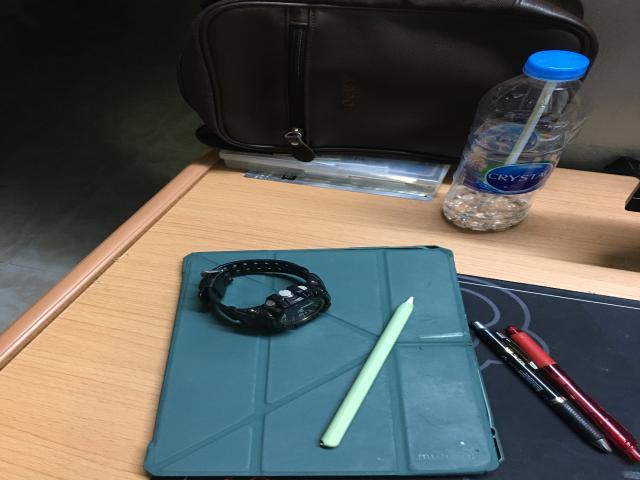Pen: (472, 322, 612, 452), (507, 326, 640, 461)
Watch: (198, 259, 332, 331)
bottle: (443, 50, 590, 231)
